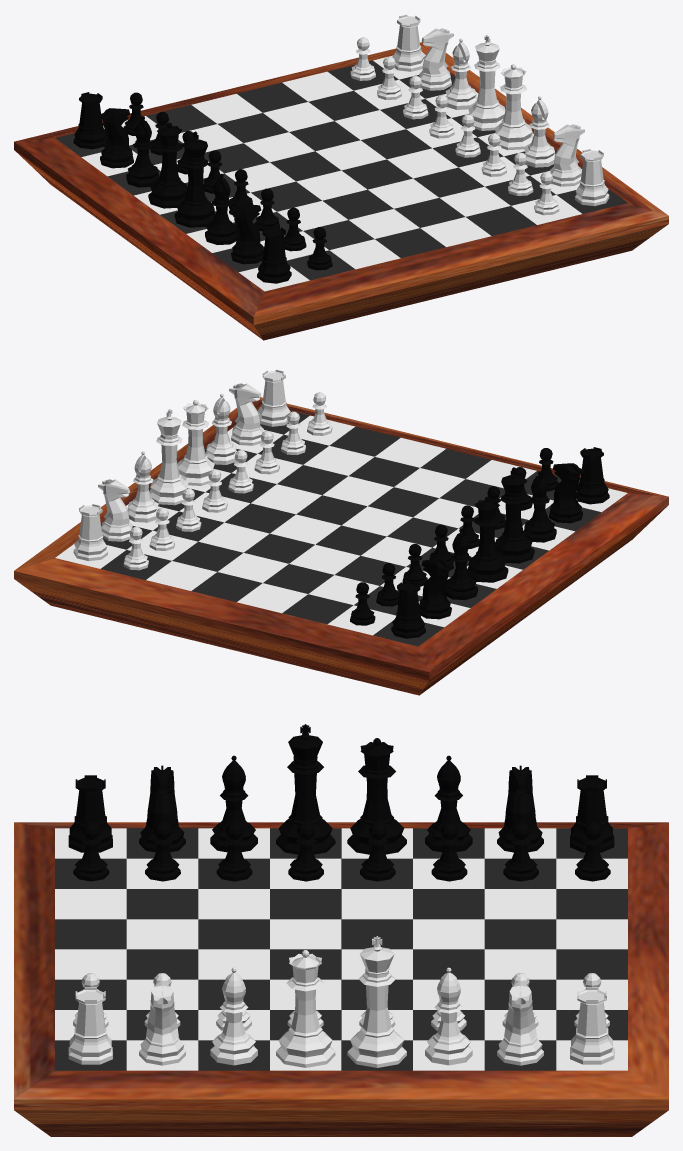
Rendered from board.fbx.
3 renders of one model, top to bottom at view 1: azimuth 30°, elevation 25°; view 2: azimuth 150°, elevation 25°; view 3: azimuth 270°, elevation 25°, orthographic. The views are drawn at different scales.
Parts seen in each view (by area): view 1: board, Stand, black king.001, white king.001, black queen.001, white queen.001, black Knight 1.001, white Knight 1.001, black Knight 2.001, white Knight 2.001, white rook 2.001, blackrook 1.001 (+20 smaller); view 2: board, Stand, black king.001, white king.001, black queen.001, white queen.001, black Knight 2.001, white Knight 2.001, black Knight 1.001, white Knight 1.001, white rook 1.001, black rook 2.001 (+20 smaller); view 3: board, Stand, white king.001, white queen.001, black king.001, black queen.001, white rook 2.001, white Knight 1.001, white Knight 2.001, white rook 1.001, white bishop 1.001, white bishop 2.001 (+14 smaller).
Part boxes in pixels (x1,y1,x2,y2): board: [55, 54, 627, 291]; Stand: [14, 42, 668, 340]; black king.001: [174, 131, 215, 227]; white king.001: [468, 34, 505, 130]; black queen.001: [148, 122, 187, 208]; white queen.001: [494, 64, 533, 150]; black Knight 1.001: [98, 108, 133, 168]; white Knight 1.001: [419, 28, 453, 90]; black Knight 2.001: [229, 204, 263, 264]; white Knight 2.001: [550, 124, 584, 186]; white rook 2.001: [575, 149, 609, 206]; blackrook 1.001: [257, 226, 291, 283]; board: [55, 409, 627, 646]; Stand: [14, 397, 668, 695]; black king.001: [495, 467, 534, 563]; white king.001: [149, 409, 188, 505]; black queen.001: [467, 496, 508, 582]; white queen.001: [177, 400, 214, 485]; black Knight 2.001: [549, 463, 584, 523]; white Knight 2.001: [229, 383, 263, 445]; black Knight 1.001: [419, 559, 453, 619]; white Knight 1.001: [98, 479, 132, 541]; white rook 1.001: [73, 504, 107, 561]; black rook 2.001: [391, 581, 425, 638]; board: [55, 828, 627, 1070]; Stand: [14, 822, 668, 1136]; white king.001: [347, 936, 406, 1067]; white queen.001: [276, 950, 335, 1067]; black king.001: [276, 724, 335, 854]; black queen.001: [347, 738, 406, 854]; white rook 2.001: [68, 987, 112, 1064]; white Knight 1.001: [497, 981, 543, 1065]; white Knight 2.001: [139, 981, 185, 1065]; white rook 1.001: [570, 987, 614, 1064]; white bishop 1.001: [425, 967, 472, 1065]; white bishop 2.001: [210, 967, 257, 1065].
Bounding box in the file's own units: 54.87 × 17 × 54.87.
